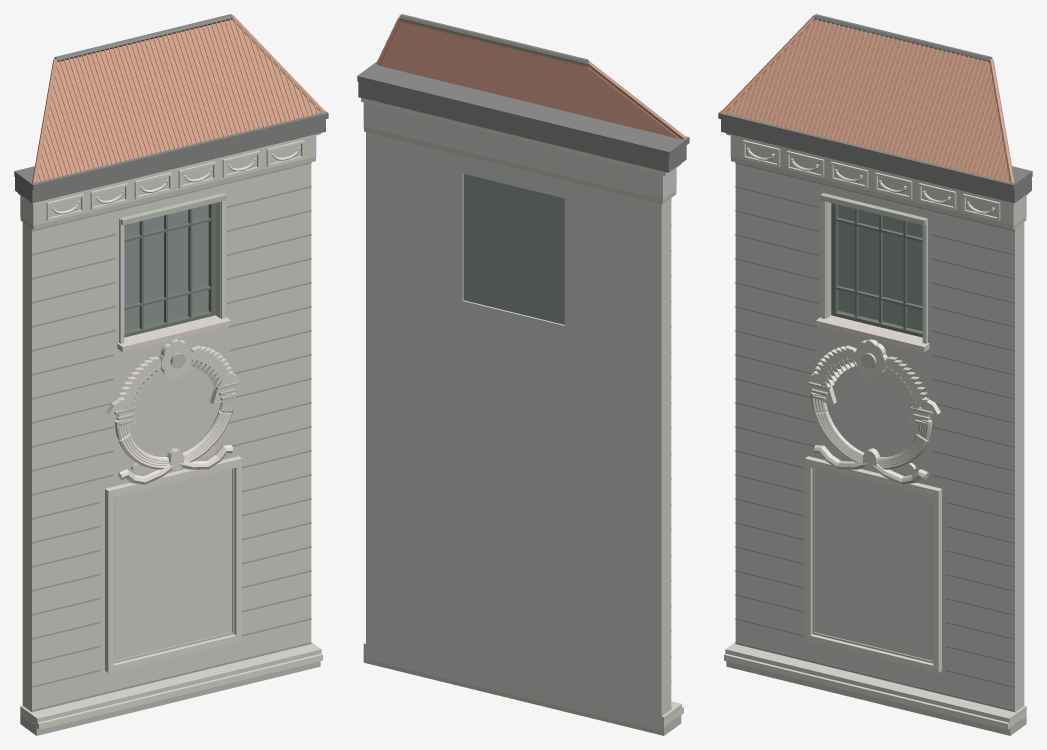
Rendered from huangpu-shanghai-waterworks-484-corner-raw.glb.
3 renders of one model, left to right at view 1: azimuth 30°, elevation 25°; view 2: azimuth 150°, elevation 25°; view 3: azimuth 330°, elevation 25°, orthographic. The views are drawn at different scales.
Visible parts, largest first — view 1: 英商自来水公司大楼（自来大楼）西南转角花饰; view 2: 英商自来水公司大楼（自来大楼）西南转角花饰; view 3: 英商自来水公司大楼（自来大楼）西南转角花饰.
Boxes of the visible parts, x1,y1,x2,y2 form: 英商自来水公司大楼（自来大楼）西南转角花饰: (14, 14, 328, 735); 英商自来水公司大楼（自来大楼）西南转角花饰: (357, 14, 689, 735); 英商自来水公司大楼（自来大楼）西南转角花饰: (718, 14, 1032, 735).
Bounding box in the file's own units: 6.31 × 13.06 × 1.44.
